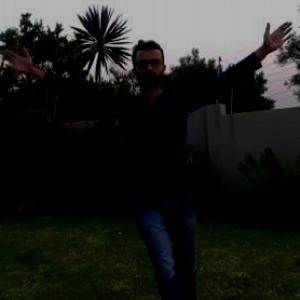takeoff: (1, 31, 285, 292)
